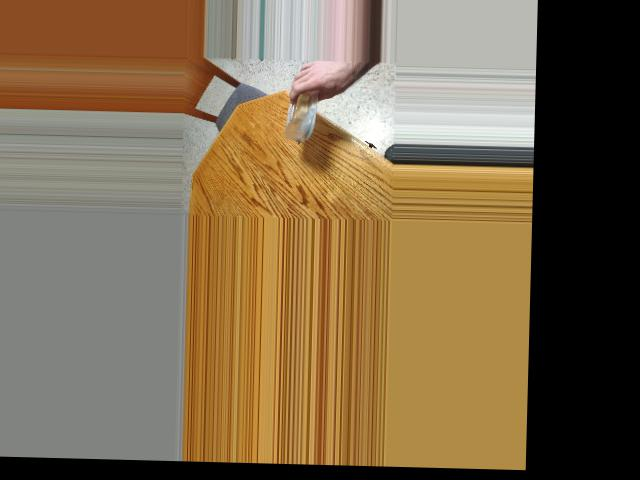cheese: (273, 74, 343, 142)
